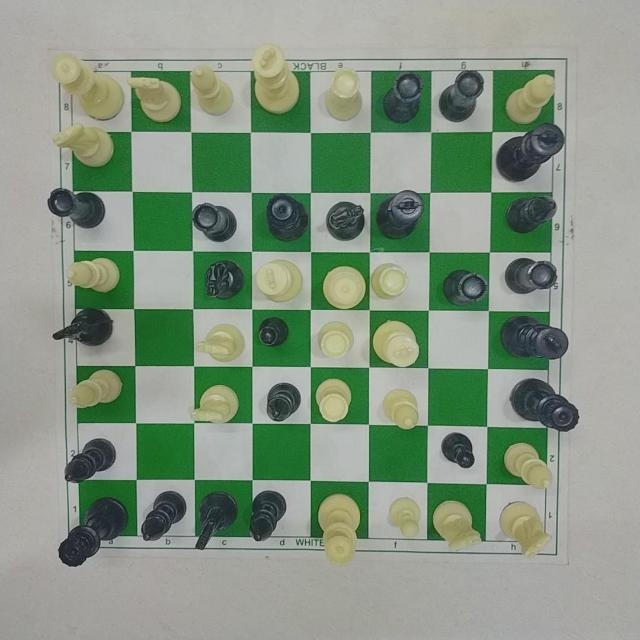black-bishop: (58, 434, 127, 482), (139, 487, 189, 551), (501, 189, 560, 233), (248, 484, 287, 547), (264, 380, 306, 426)
black-king: (493, 119, 570, 185), (496, 308, 570, 362), (376, 183, 426, 244)
black-knight: (193, 483, 241, 555), (46, 304, 121, 350), (323, 194, 369, 251), (199, 258, 249, 302)
black-pawn: (439, 424, 475, 470), (258, 314, 300, 348)
black-queen: (54, 486, 126, 575), (503, 367, 583, 431), (263, 189, 310, 247)
black-rook: (436, 66, 486, 124), (504, 250, 563, 299), (46, 186, 106, 232), (380, 69, 425, 127), (188, 200, 243, 241), (441, 265, 489, 311)
white-bishop: (501, 436, 560, 491), (497, 73, 558, 125), (187, 60, 237, 119), (67, 362, 125, 412), (64, 250, 125, 296), (380, 383, 421, 437)
white-king: (250, 40, 303, 124), (366, 316, 427, 366), (253, 256, 305, 303)
white-knight: (496, 496, 554, 560), (54, 120, 116, 172), (430, 497, 485, 555), (127, 74, 185, 126), (189, 377, 239, 427), (197, 314, 247, 364)
white-pawn: (384, 488, 424, 543)
white-queen: (50, 47, 125, 119), (316, 490, 365, 567), (320, 263, 367, 313)
white-rook: (323, 65, 365, 124), (314, 373, 356, 429), (313, 320, 358, 360), (371, 255, 410, 301)
